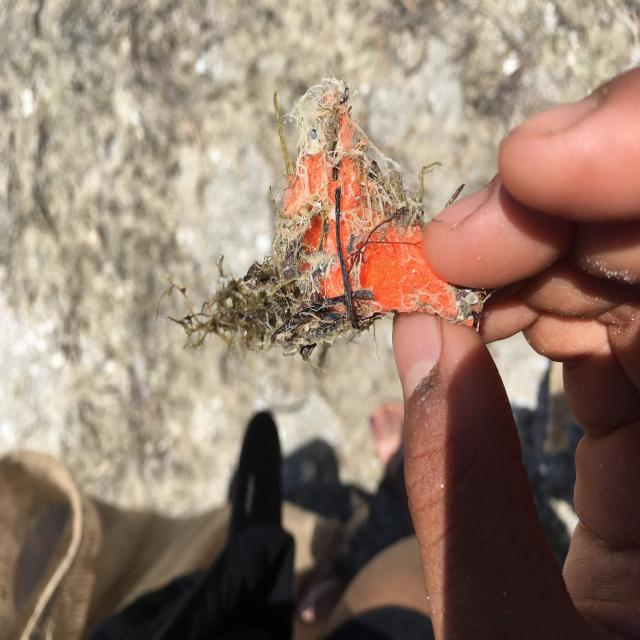litter: (262, 88, 483, 337)
